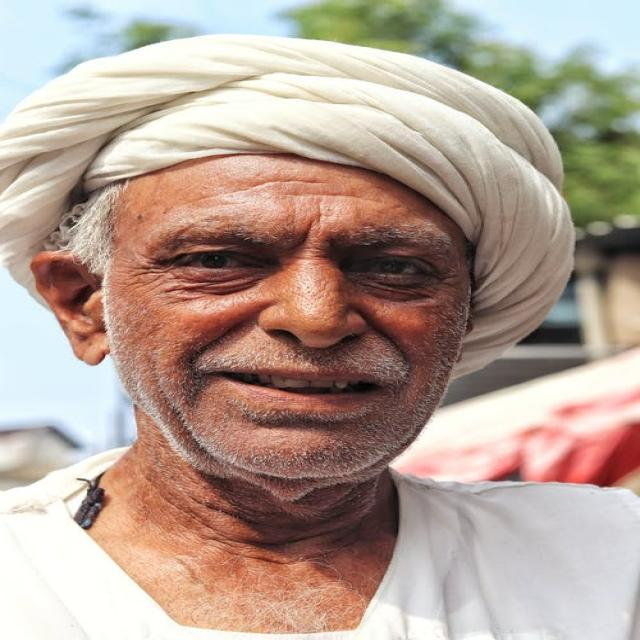Wrinkles: (223, 181, 322, 195), (290, 194, 386, 203), (131, 276, 160, 292), (183, 195, 223, 203), (143, 283, 165, 293), (132, 272, 167, 276), (114, 266, 159, 269), (319, 203, 320, 221)
